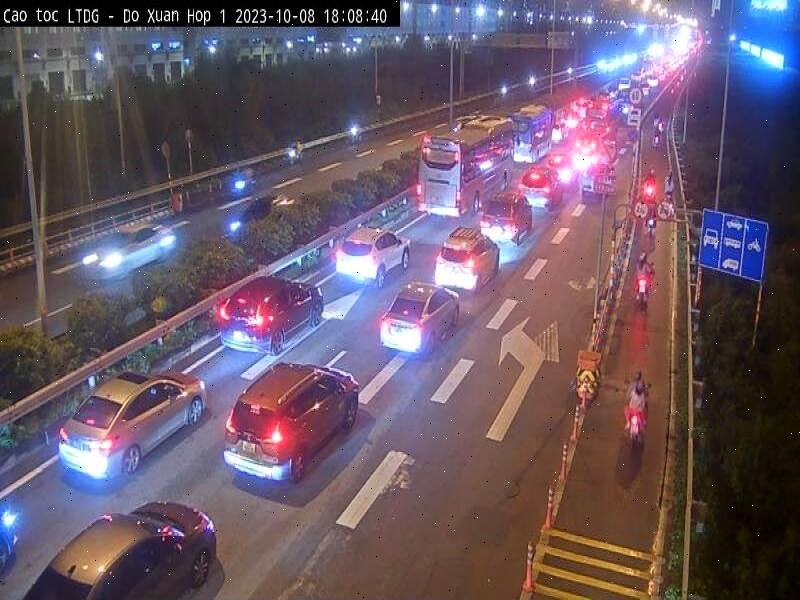bus: (413, 110, 518, 215), (511, 102, 553, 165)
car: (222, 351, 364, 499), (19, 503, 224, 600), (57, 370, 209, 495), (215, 274, 329, 355), (72, 224, 193, 294), (377, 283, 463, 354), (423, 223, 500, 299), (334, 227, 410, 288), (479, 183, 536, 250), (518, 164, 569, 215)
motorcycle: (620, 410, 649, 456), (629, 277, 654, 307)
